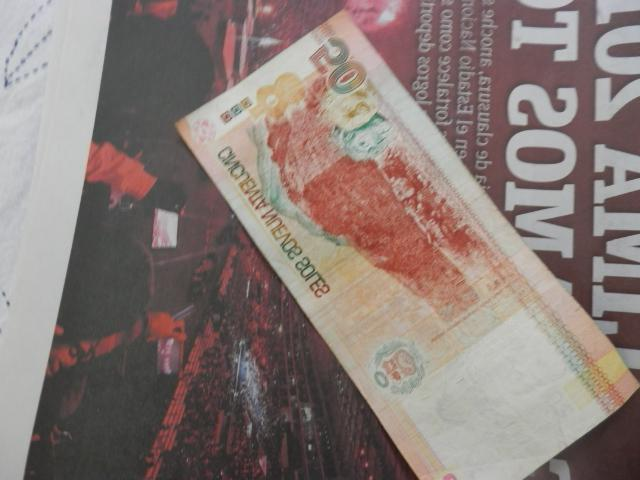B50: (175, 10, 639, 478)
